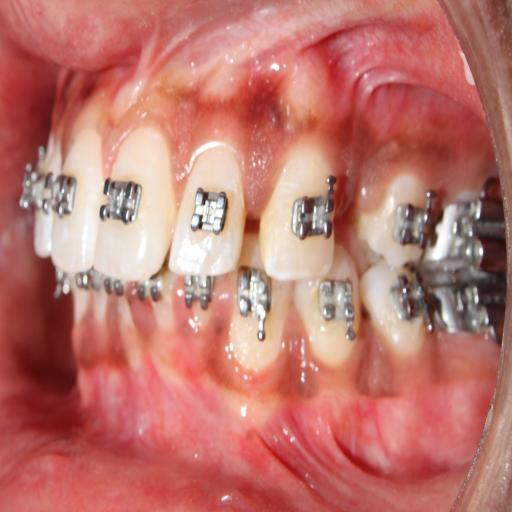correct_brace: (288, 169, 340, 244), (186, 184, 230, 239)
incorrect_brace: (166, 131, 248, 278)
